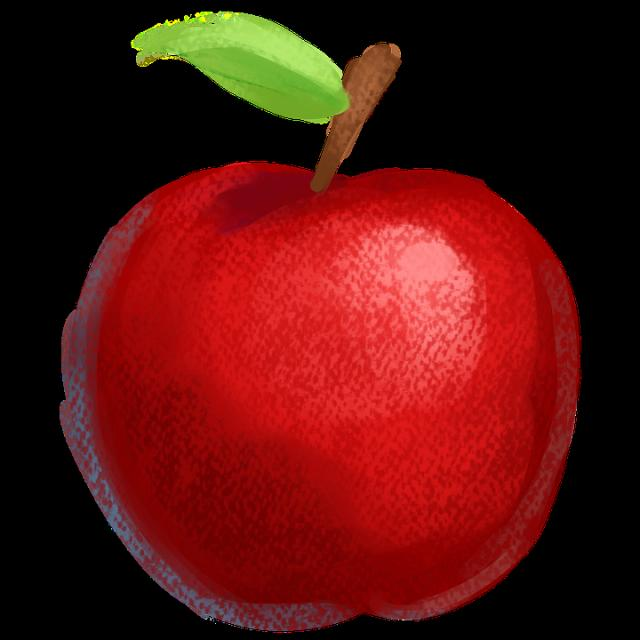apple: (68, 13, 582, 634)
